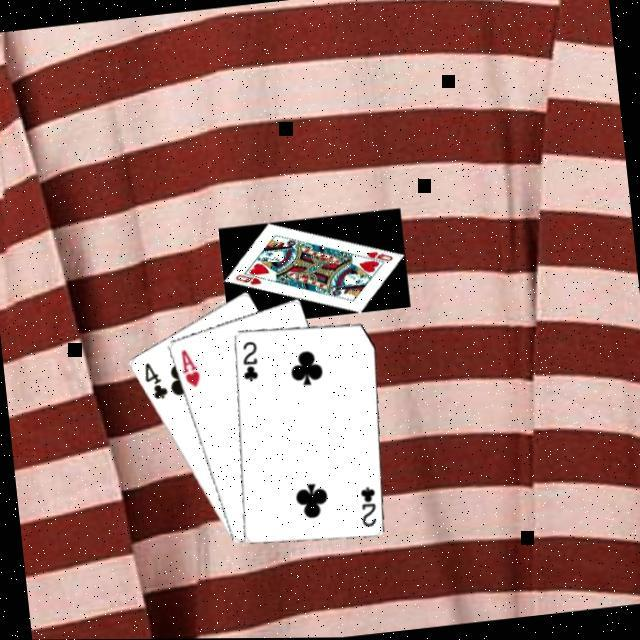2C: (354, 482, 379, 529), (236, 337, 260, 384)
4C: (138, 356, 170, 402)
AH: (176, 344, 202, 390)
